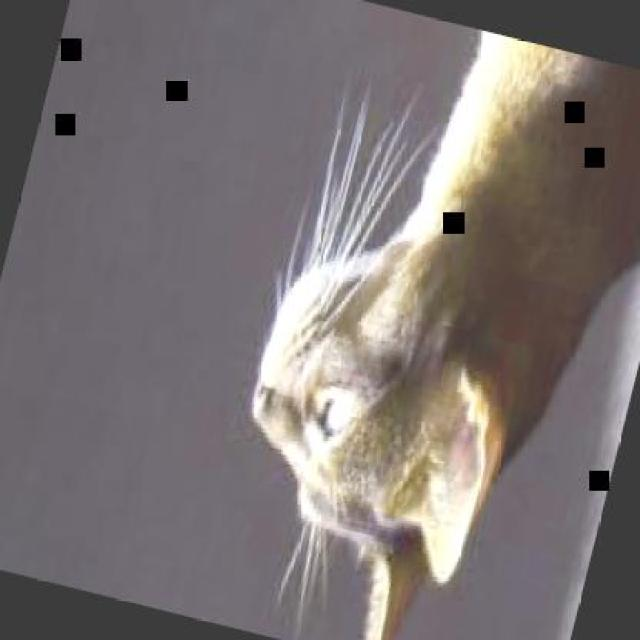cat: (195, 0, 638, 638)
